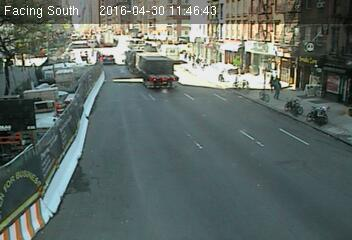neg: (41, 91, 67, 125), (275, 140, 294, 165), (208, 35, 225, 58), (135, 46, 152, 68), (81, 70, 95, 88), (104, 32, 115, 45)
pos: (269, 75, 289, 101), (267, 73, 280, 90)
